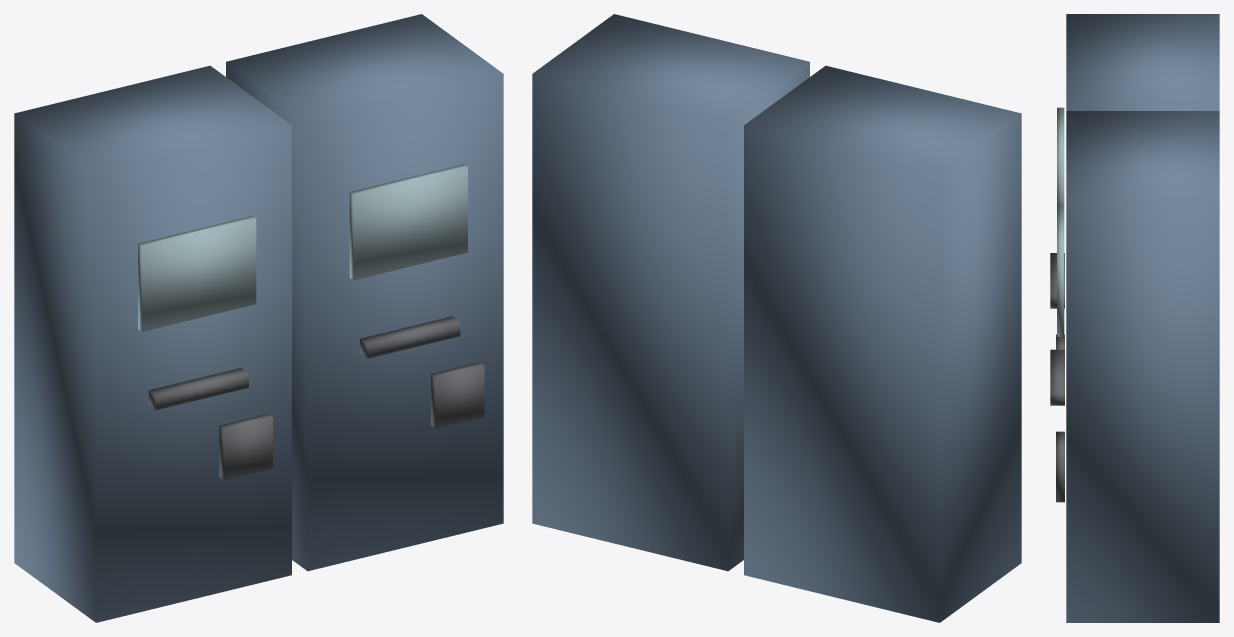
Rendered from ticket_vending_machine__cluster.glb.
3 views of the same model, side by side, from view 1: azimuth 30°, elevation 25°; view 2: azimuth 150°, elevation 25°; view 3: azimuth 270°, elevation 25° (orthographic). The views are drawn at different scales.
Visible parts, largest first — view 1: world; view 2: world; view 3: world.
Part boxes in pixels (bbox=[...]): world: bbox=[14, 14, 503, 622]; world: bbox=[532, 14, 1021, 622]; world: bbox=[1050, 14, 1219, 622].
Bounding box in the file's own units: 1.5 × 1.58 × 0.575.
